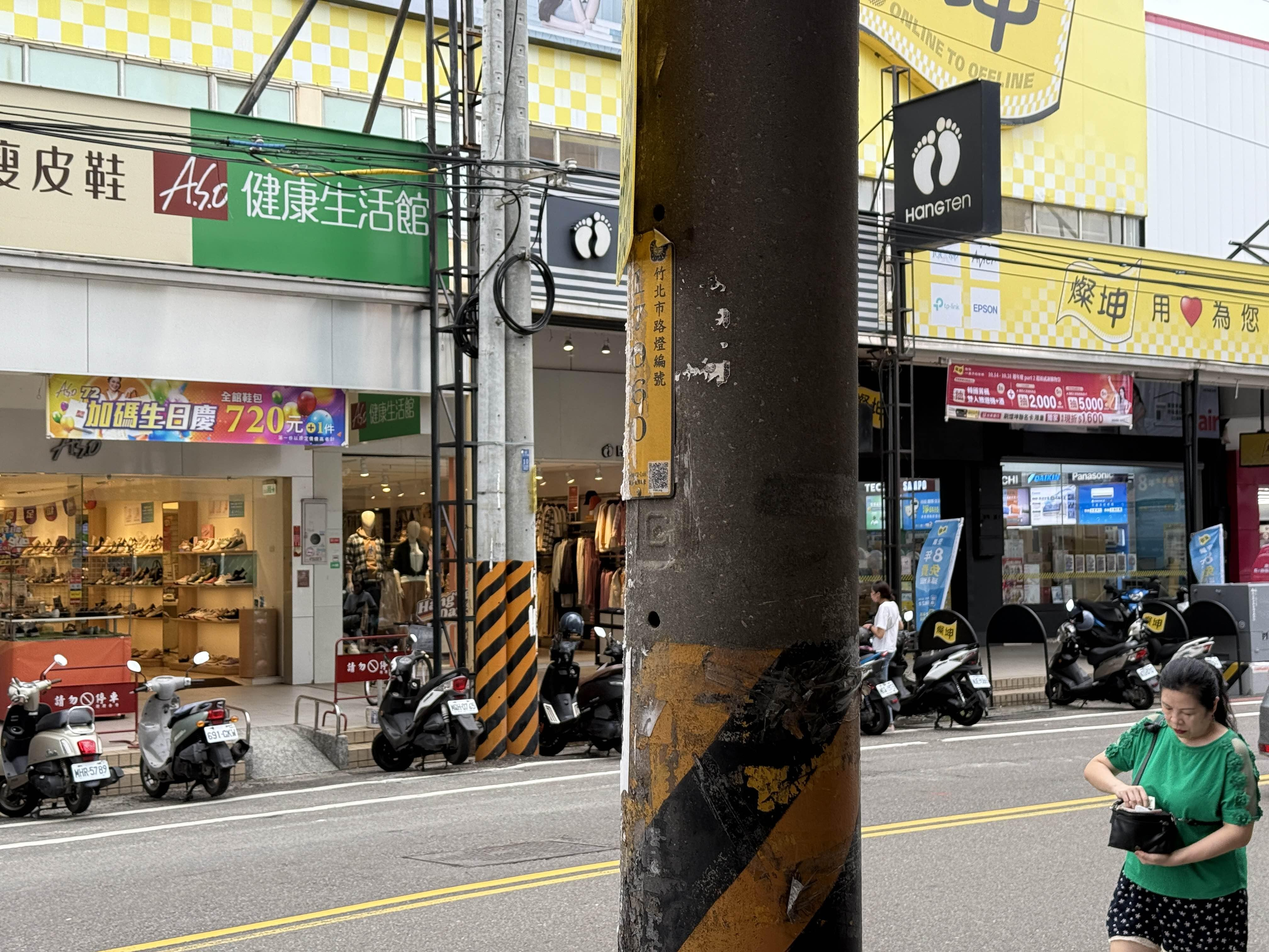NoHelmet: (1158, 654, 1223, 739), (871, 578, 891, 602)
